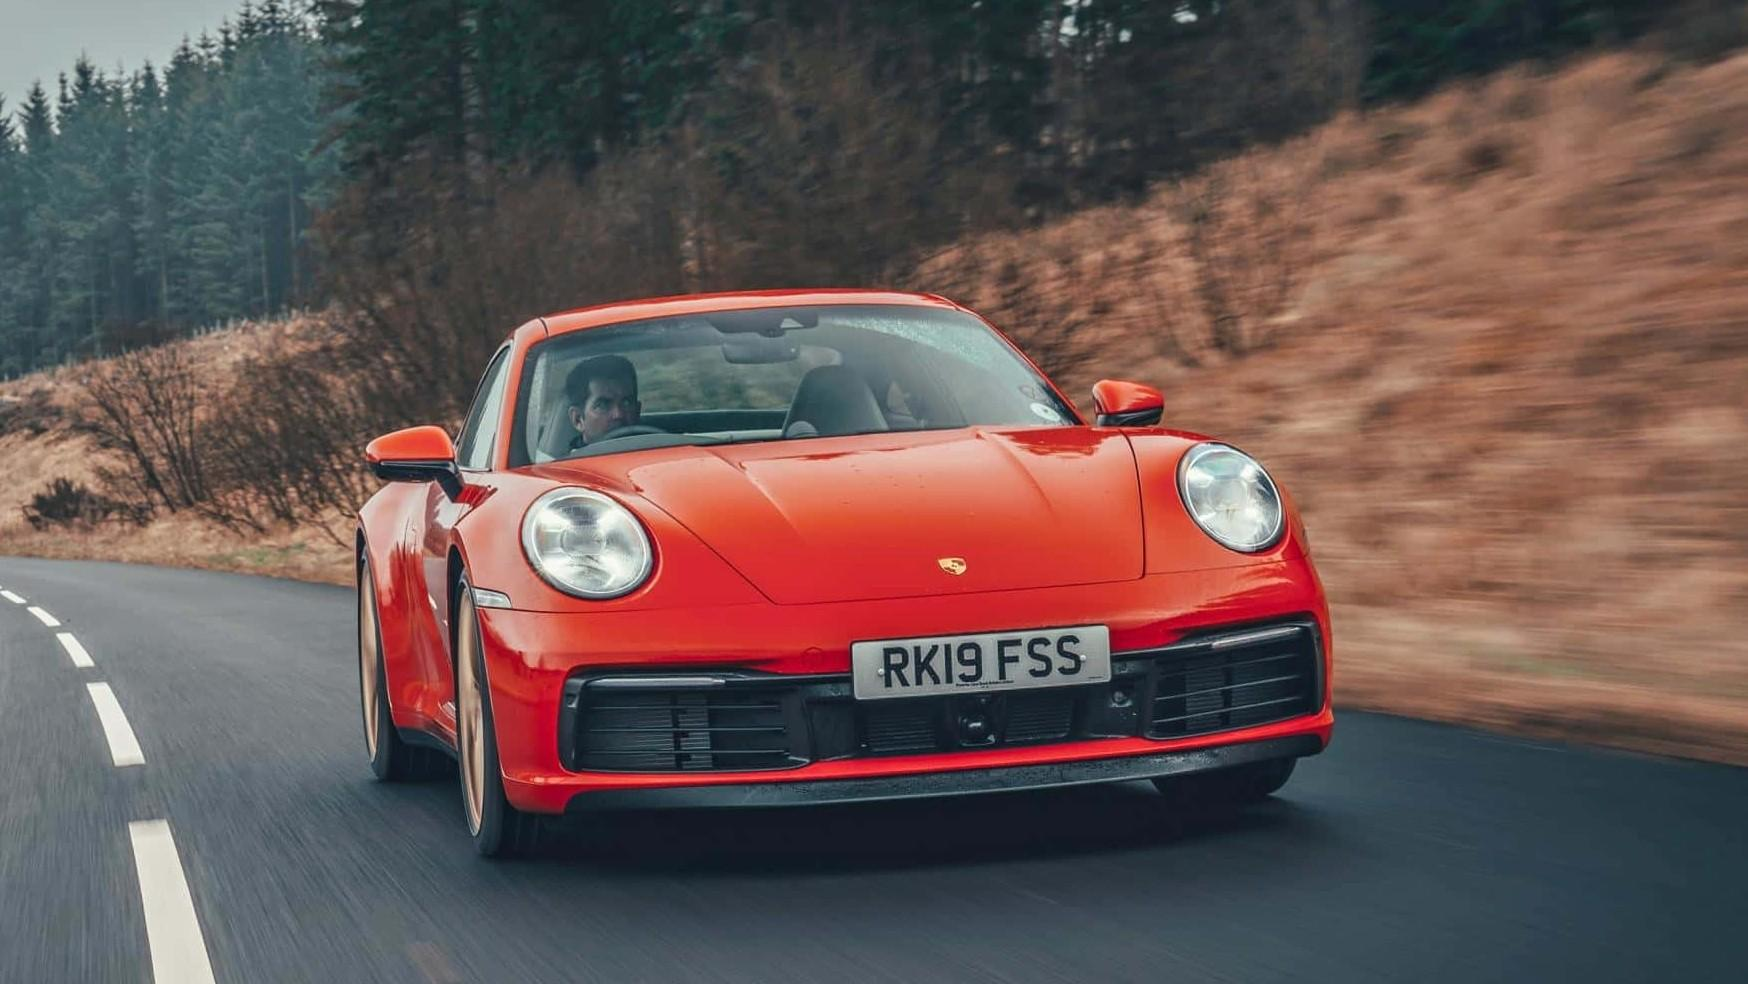number_plate: (847, 622, 1115, 702)
